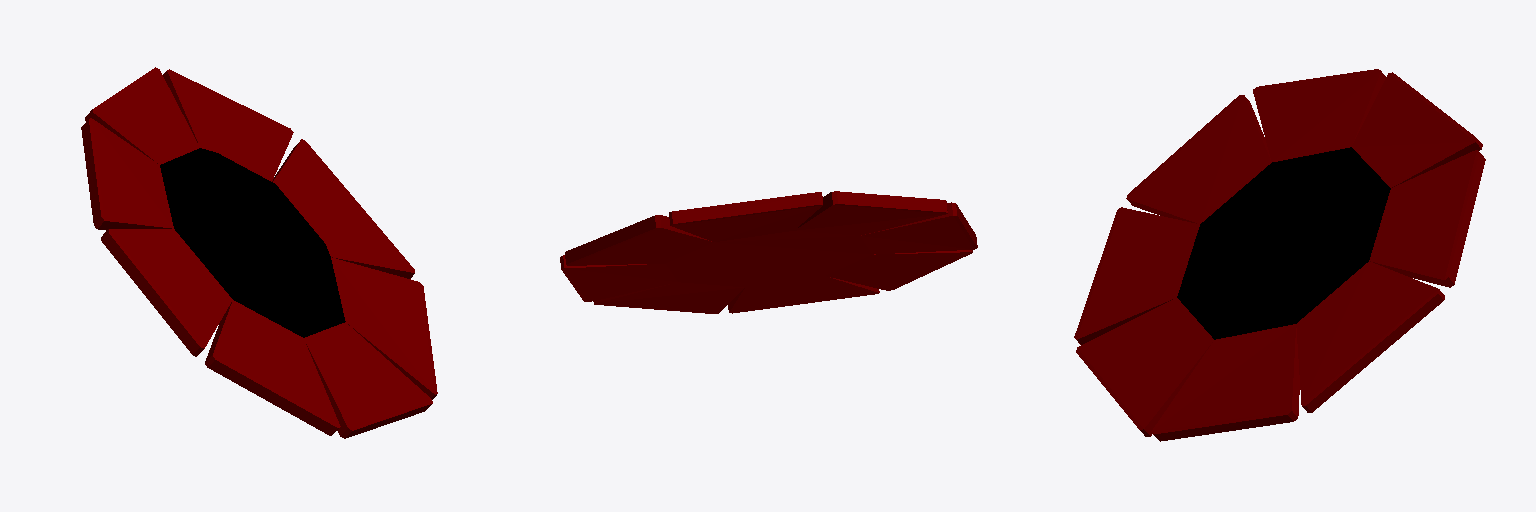
File: RedFlower.obj
3 views of the same model, side by side, from view 1: azimuth 30°, elevation 25°; view 2: azimuth 150°, elevation 25°; view 3: azimuth 270°, elevation 25° (orthographic).
Parts seen in each view (by area): view 1: Circle; view 2: Circle; view 3: Circle.
Boxes of the visible parts, x1,y1,x2,y2 form: Circle: [81, 67, 437, 438]; Circle: [560, 191, 977, 313]; Circle: [1074, 69, 1485, 441].
Size of the model in its own units: 10.02 by 7.31 by 10.37.